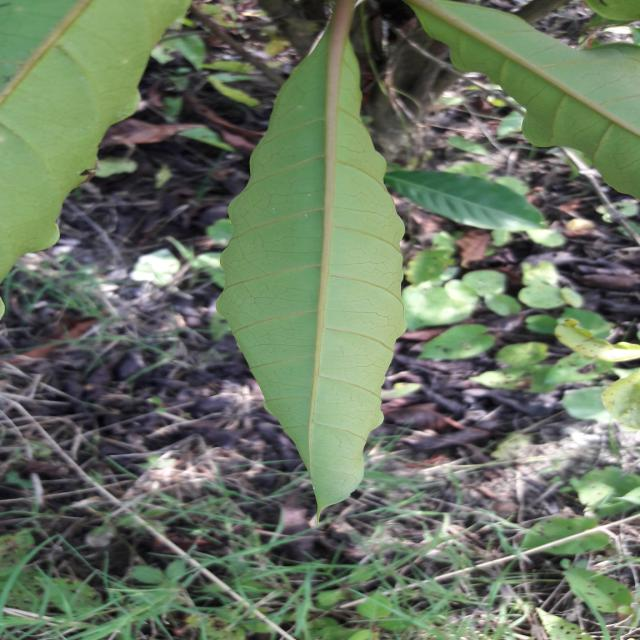Sanas: (216, 0, 407, 514)
